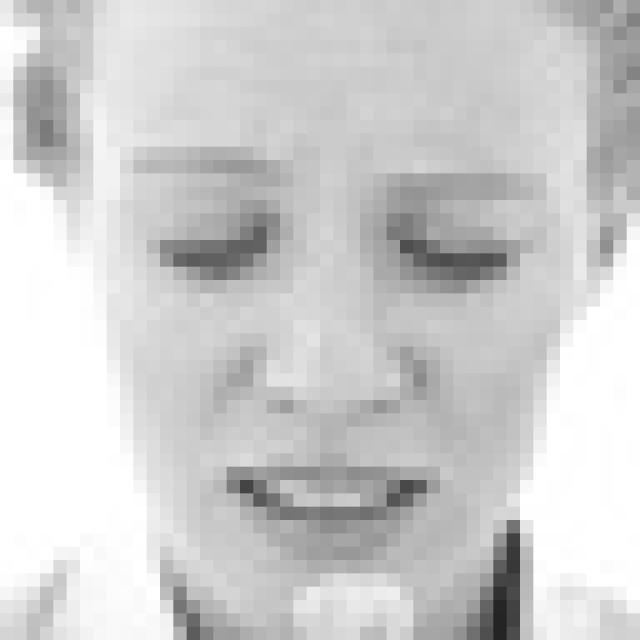disgust: (120, 141, 558, 575)
